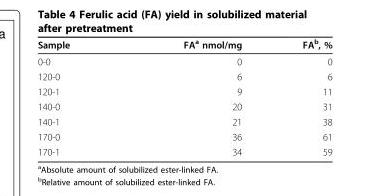table: (36, 37, 331, 157)
table column: (125, 37, 271, 157), (36, 37, 125, 157), (271, 37, 331, 157)
table column header: (36, 37, 331, 52)
table row: (36, 52, 331, 68), (36, 37, 331, 52), (36, 68, 331, 83), (36, 83, 331, 98), (36, 98, 331, 113), (36, 113, 331, 128), (36, 128, 331, 143), (36, 143, 331, 157)
